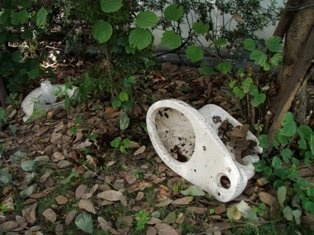toilet: (145, 98, 262, 203)
